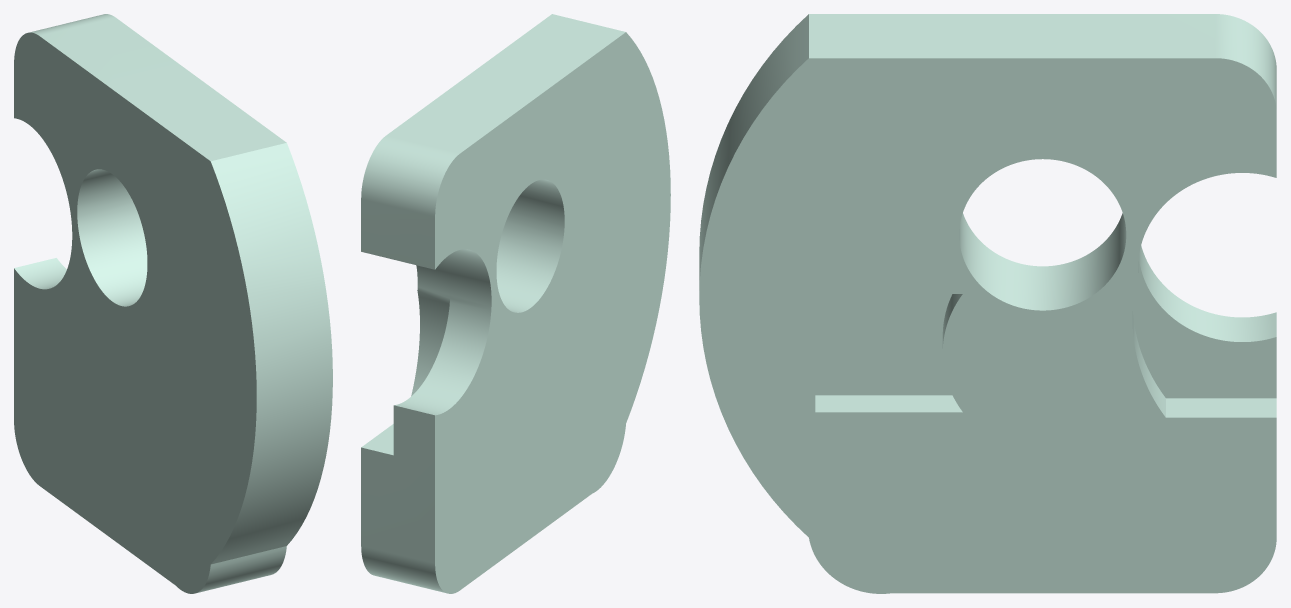
The picture shows the model from 3 angles, left to right: view 1: azimuth 30°, elevation 25°; view 2: azimuth 150°, elevation 25°; view 3: azimuth 270°, elevation 25°; orthographic projection. The views are drawn at different scales.
Visible parts, largest first — view 1: Renderer Node; view 2: Renderer Node; view 3: Renderer Node.
Boxes of the visible parts, bbox=[...] form: Renderer Node: bbox=[14, 14, 332, 593]; Renderer Node: bbox=[361, 14, 670, 593]; Renderer Node: bbox=[699, 14, 1276, 593].
Size of the model in its own units: 0.2656 by 1.5 by 1.47.
